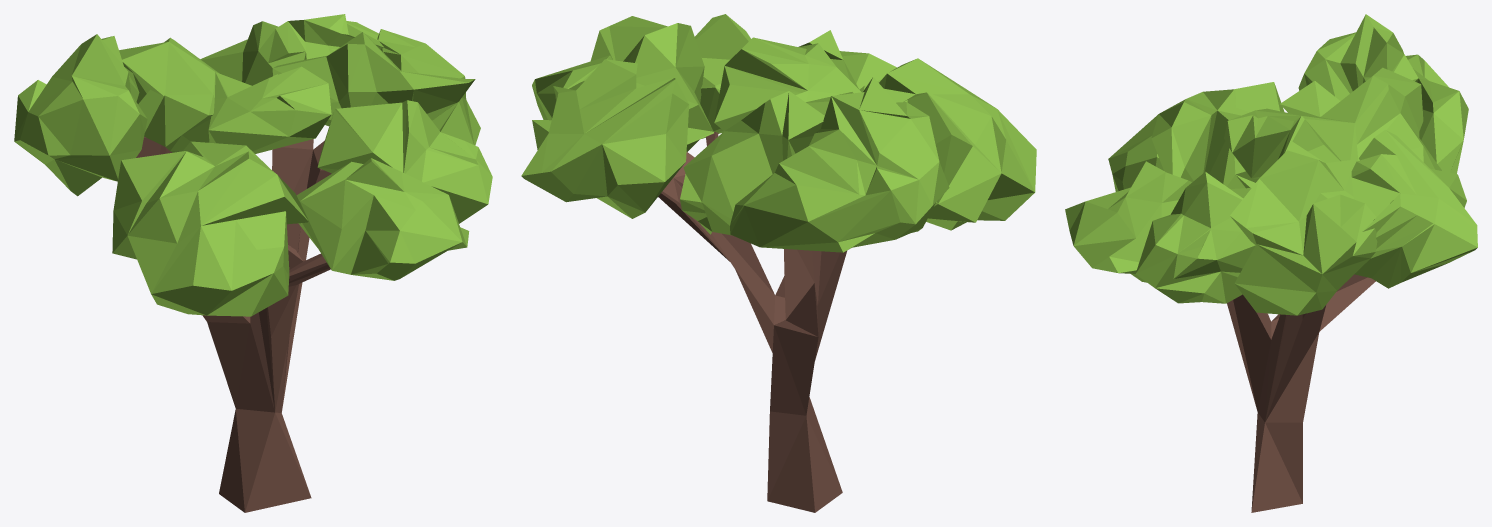
The picture shows the model from 3 angles, left to right: view 1: azimuth 30°, elevation 25°; view 2: azimuth 150°, elevation 25°; view 3: azimuth 270°, elevation 25°; orthographic projection. The views are drawn at different scales.
Visible parts, largest first — view 1: default; view 2: default; view 3: default.
Boxes of the visible parts, <box> form: default: <box>14,14,492,512</box>; default: <box>521,14,1036,512</box>; default: <box>1065,14,1477,512</box>.
Bounding box in the file's own units: 1.65 × 1.74 × 1.52.
